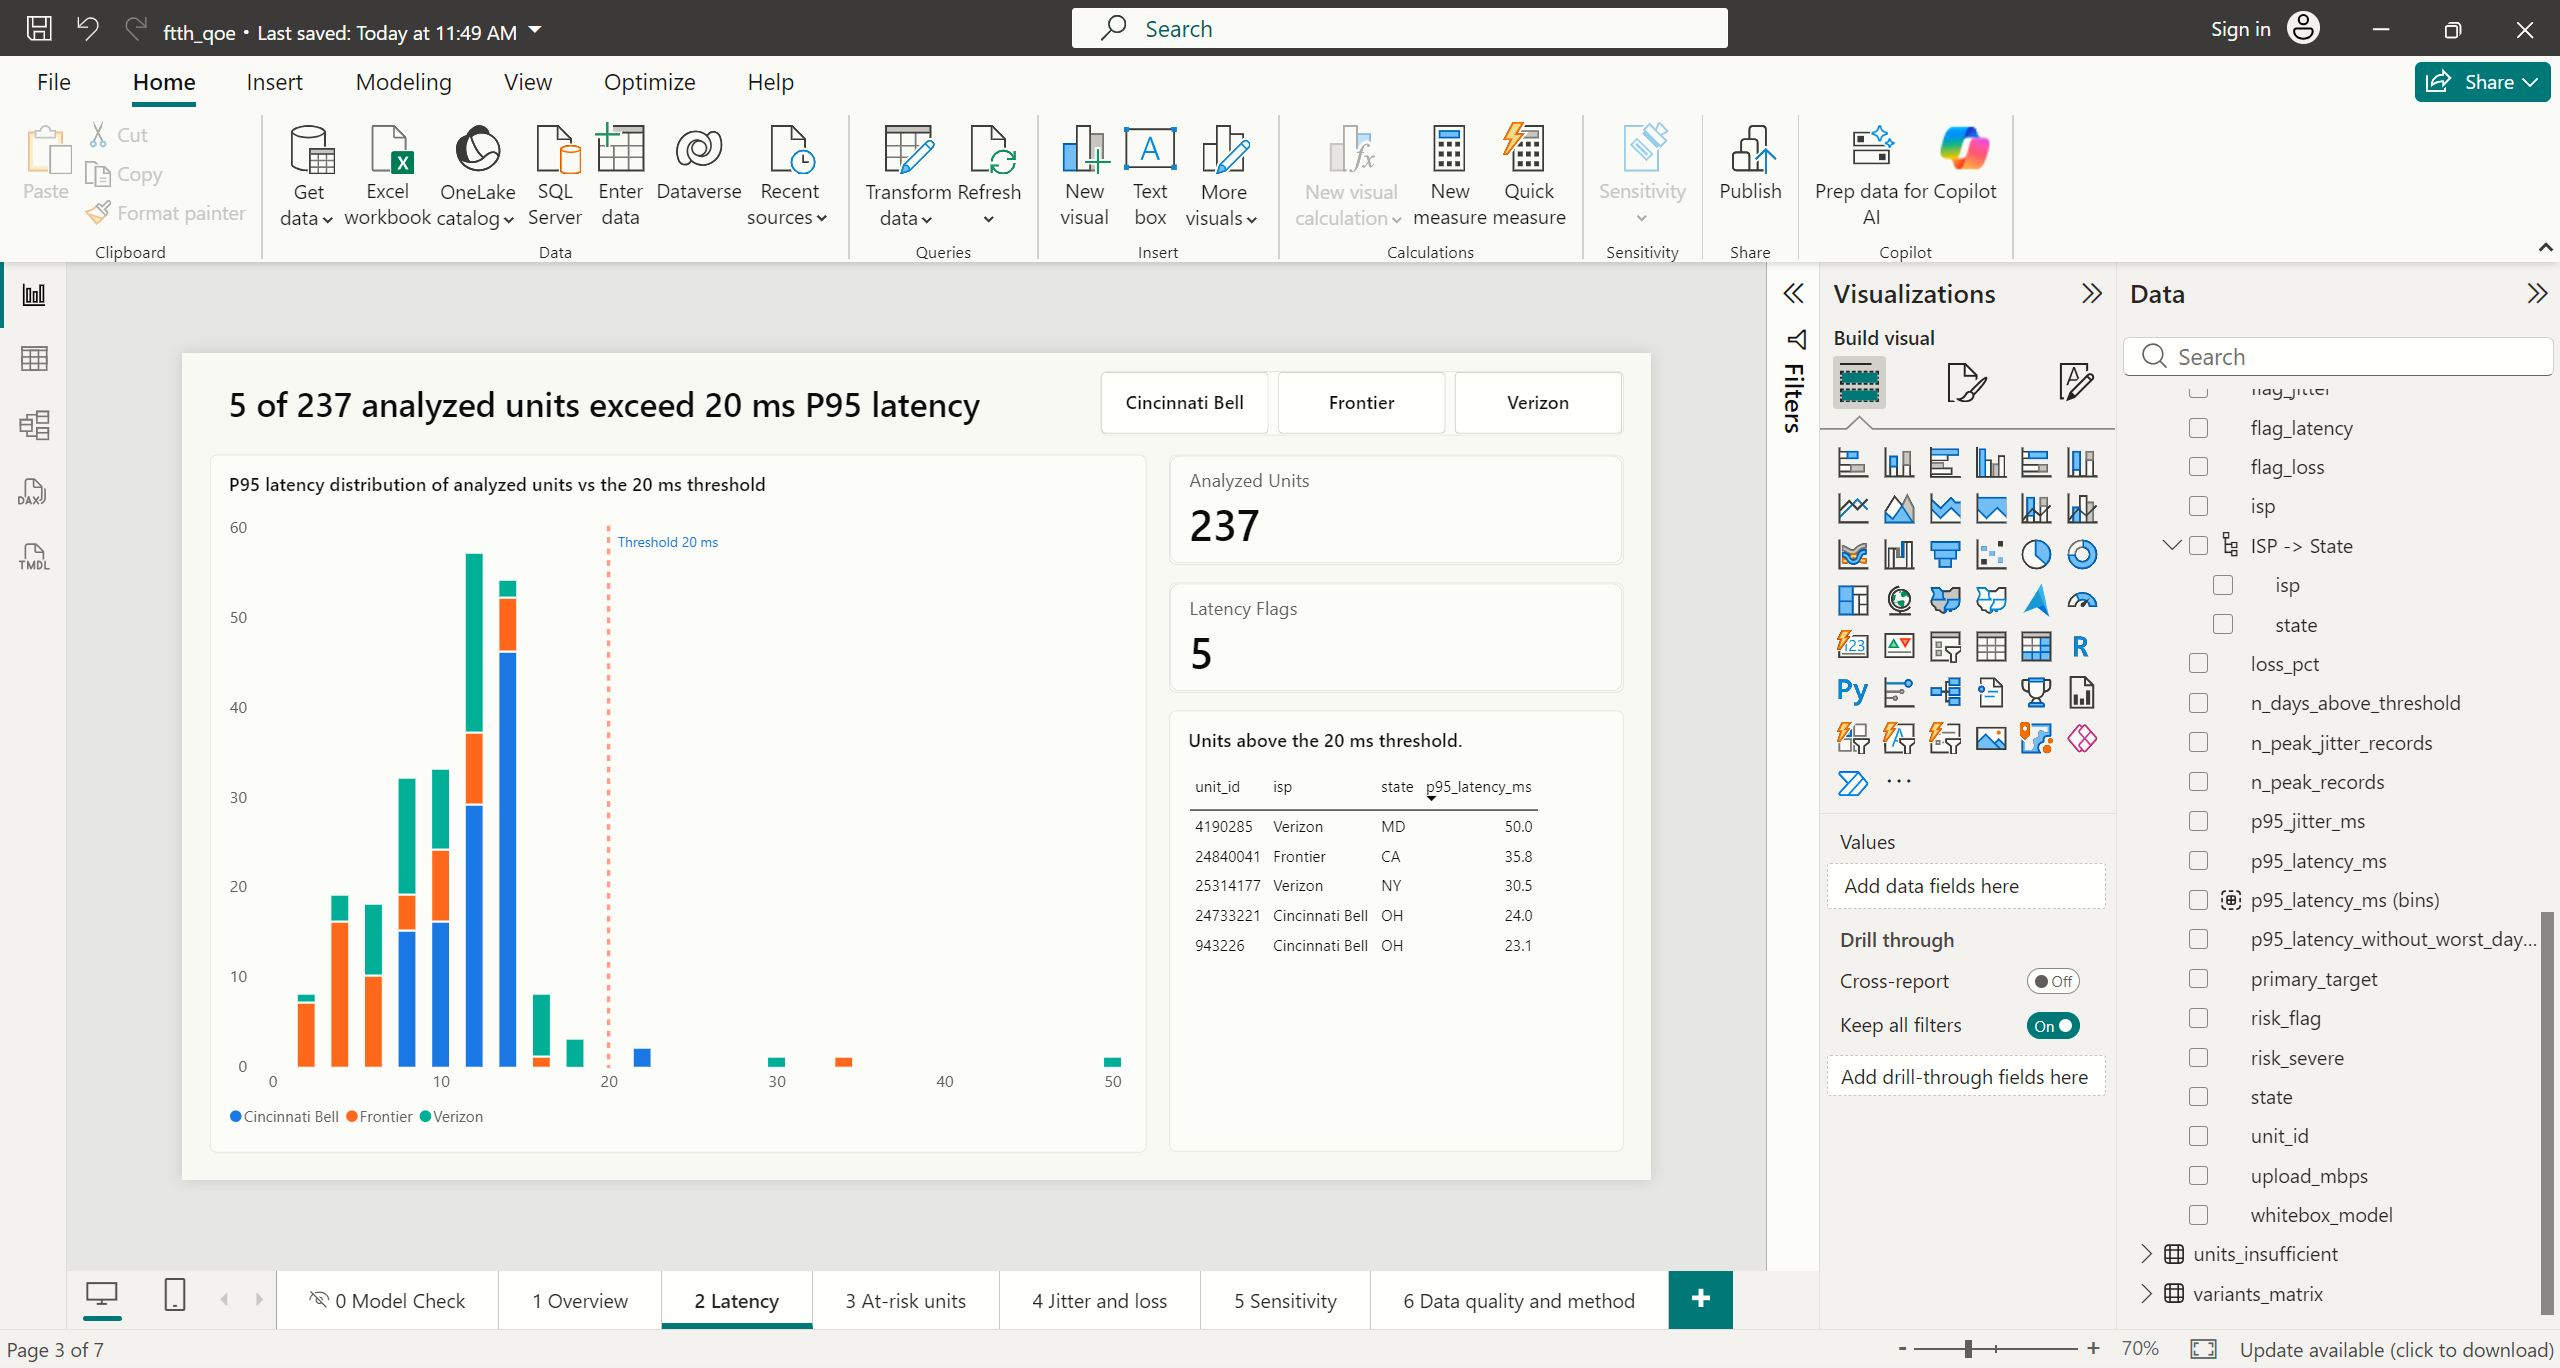

The page's visual inventory and layout, read from the dashboard file:
{"tool":"powerbi","page":{"name":"2 Latency","canvas":[1280,720],"ordinal":2},"visuals":[{"type":"cardVisual","fields":{"Data":["_Measures.Headline Latency"]},"box":[24,16,760,56],"z":0},{"type":"advancedSlicerVisual","fields":{"Values":["unit_metrics.isp"]},"box":[800,16,456,56],"z":1000},{"type":"columnChart","title":"P95 latency distribution of analyzed units vs the 20 ms threshold","fields":{"Category":["unit_metrics.p95_latency_ms (bins)"],"Series":["unit_metrics.isp"],"Y":["_Measures.Analyzed Units"]},"box":[24,88,816,608],"z":2000},{"type":"cardVisual","fields":{"Data":["_Measures.Analyzed Units"]},"box":[860,88,396,96],"z":3000},{"type":"cardVisual","fields":{"Data":["_Measures.Latency Flags"]},"box":[860,200,396,96],"z":4000},{"type":"tableEx","title":"Units above the 20 ms threshold","fields":{"Values":["unit_metrics.unit_id","unit_metrics.ISP -> State.isp","unit_metrics.state","unit_metrics.p95_latency_ms"]},"box":[860,312,396,384],"z":5000}]}

Visuals, with their boxes on the page's 1280x720 design canvas (x1, y1, x2, y2). These are canvas units, not pixel positions in the 2560x1368 screenshot, which may show the page scaled, cropped or inside an application window:
cardVisual - _Measures.Headline Latency: detection(24, 16, 784, 72)
advancedSlicerVisual - unit_metrics.isp: detection(800, 16, 1256, 72)
"P95 latency distribution of analyzed units vs the 20 ms threshold" columnChart: detection(24, 88, 840, 696)
cardVisual - _Measures.Analyzed Units: detection(860, 88, 1256, 184)
cardVisual - _Measures.Latency Flags: detection(860, 200, 1256, 296)
"Units above the 20 ms threshold" tableEx: detection(860, 312, 1256, 696)
